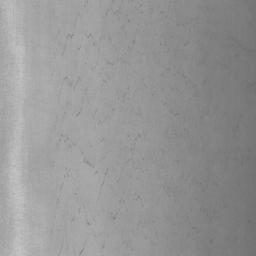Silk spot: (103, 7, 121, 18), (68, 77, 81, 90), (83, 158, 95, 168)
